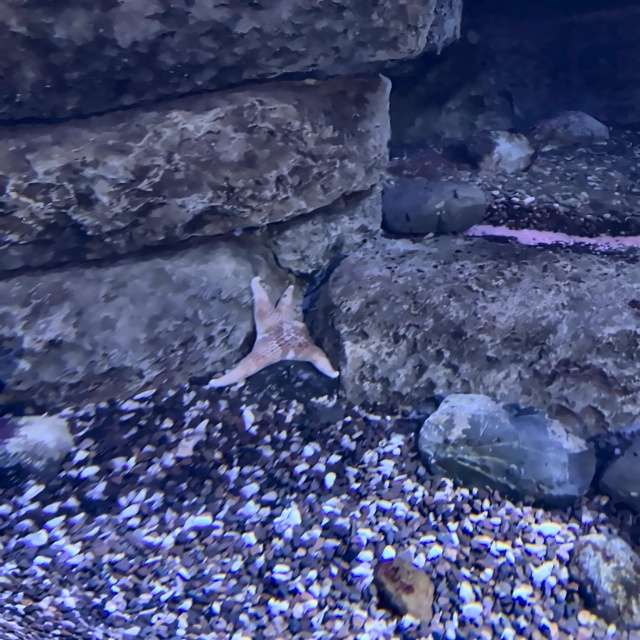starfish: (207, 279, 342, 382)
